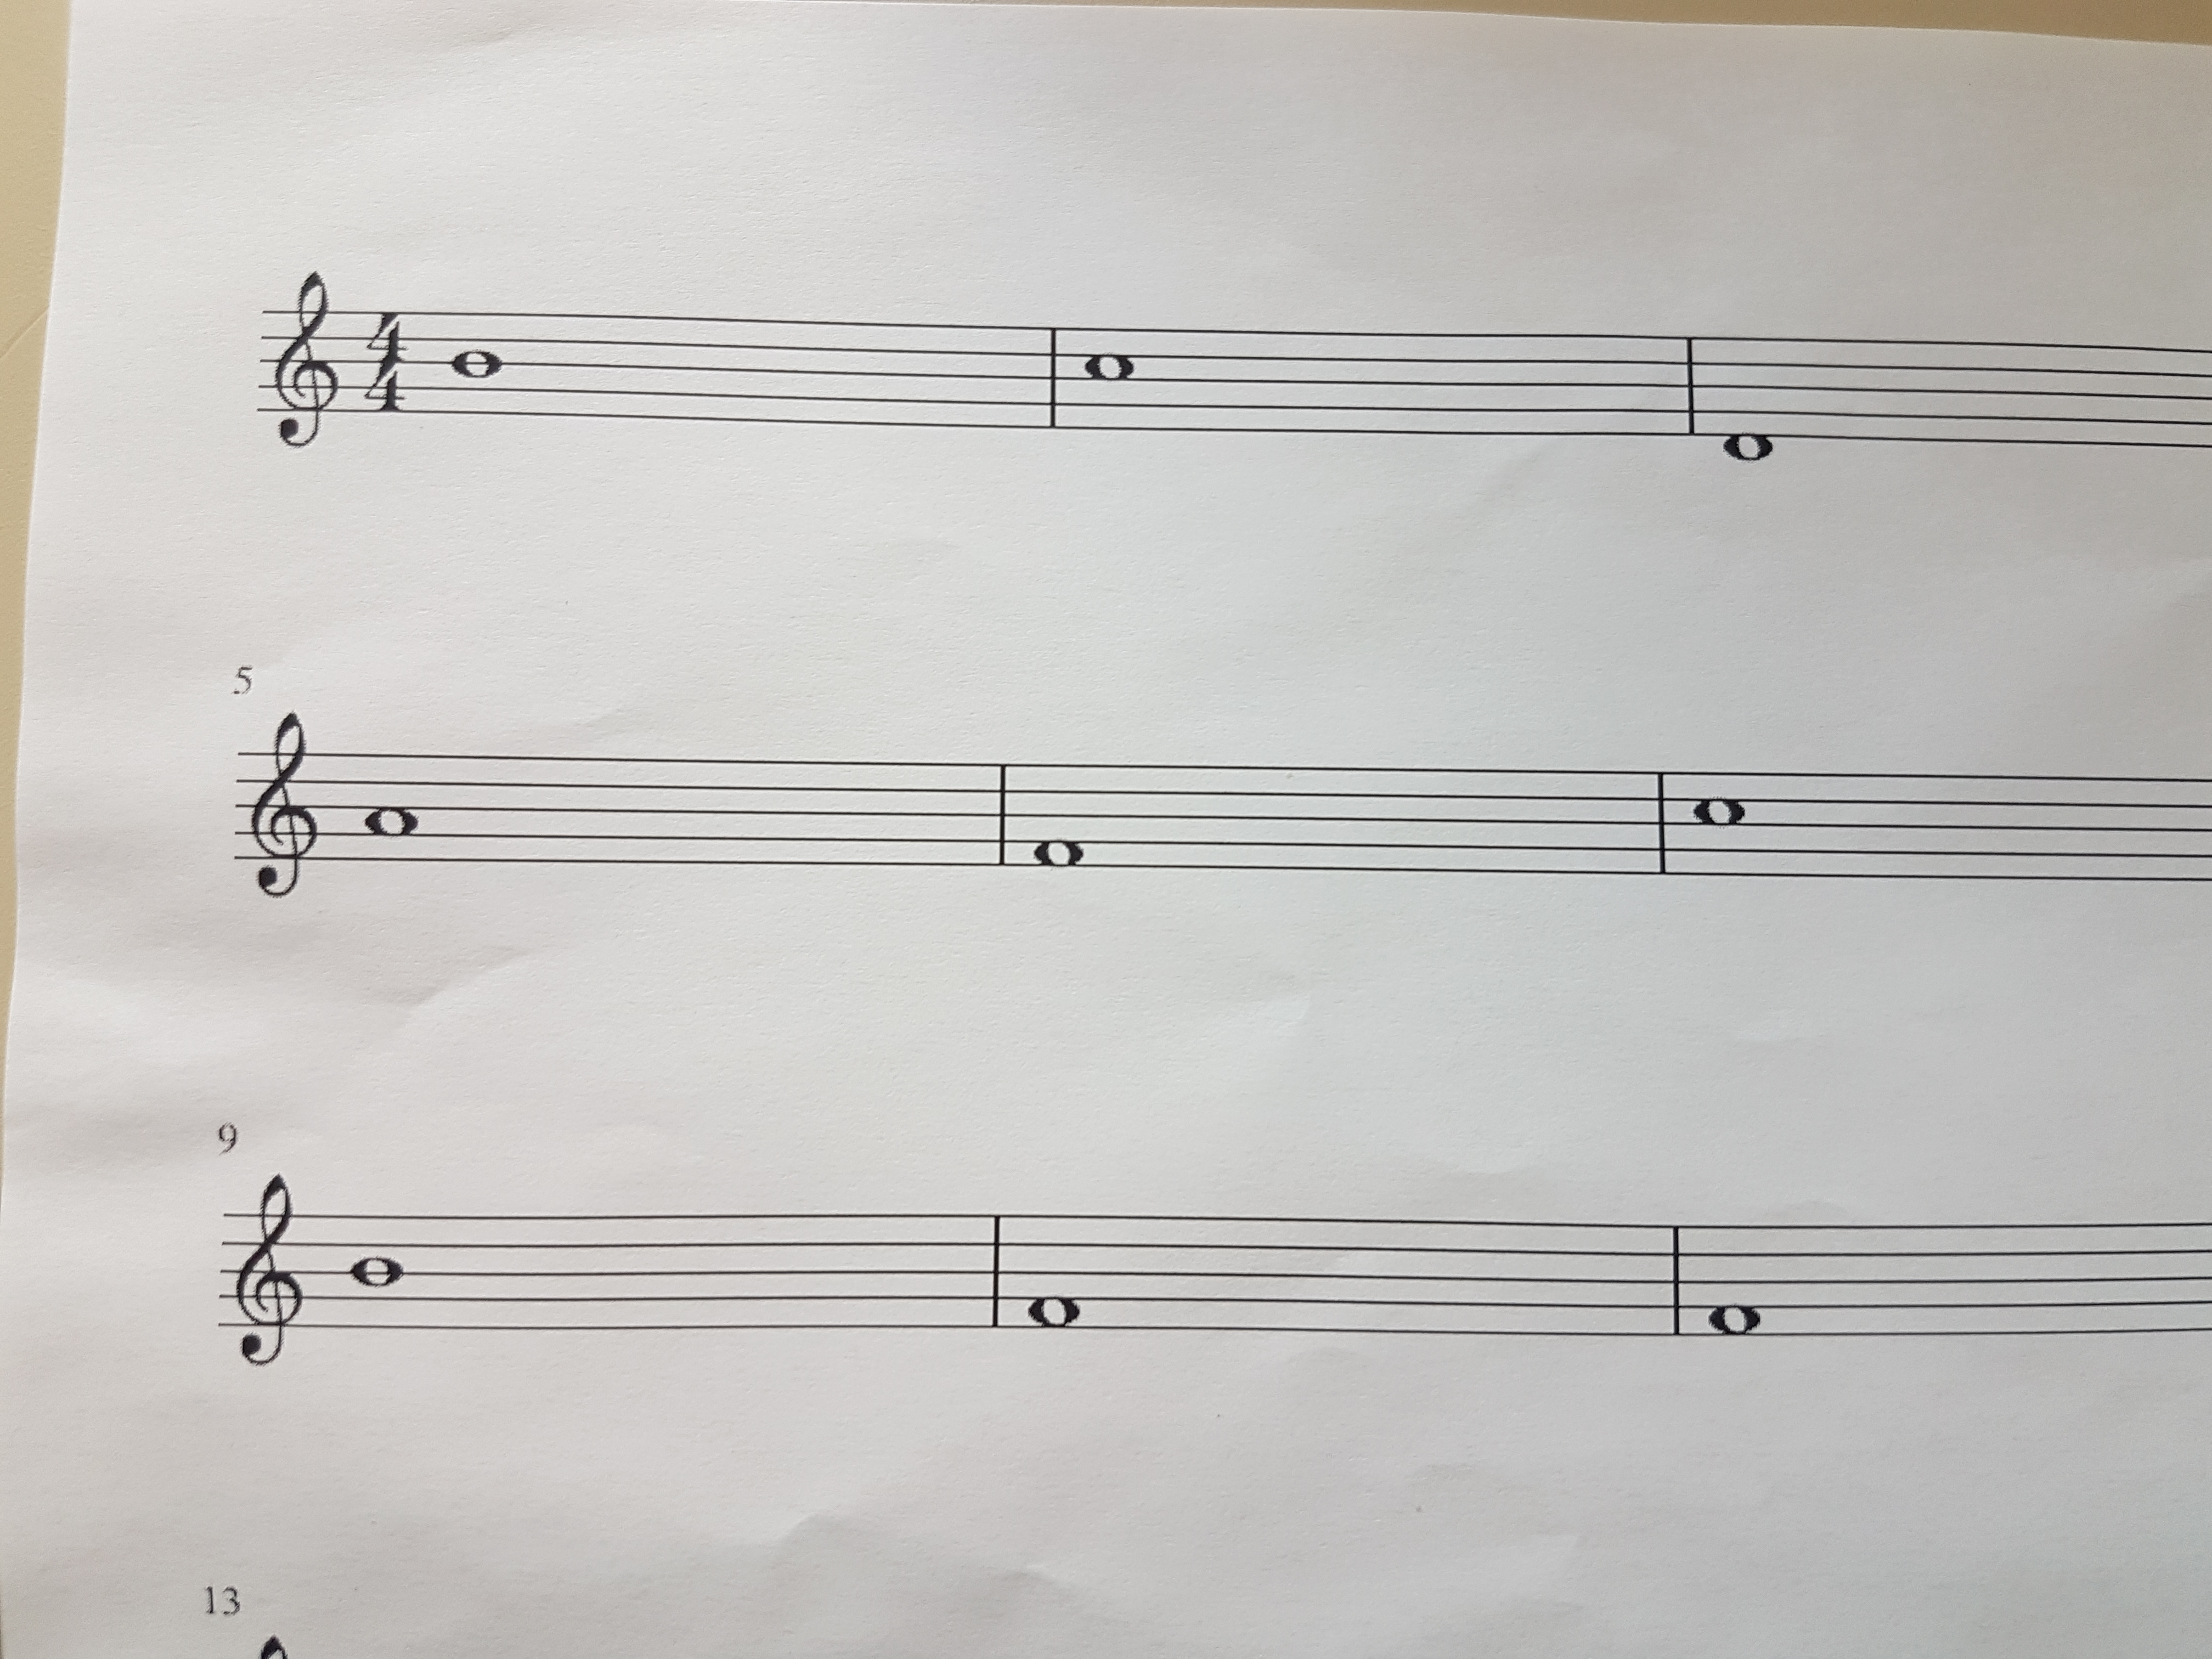semibreve_a: (357, 721, 423, 889)
semibreve_c: (1078, 289, 1139, 455), (1689, 735, 1749, 894)
semibreve_d: (1716, 301, 1778, 481)
semibreve_f: (1702, 1187, 1768, 1363), (1021, 1187, 1083, 1366), (1026, 741, 1089, 901)
semibreve_h: (343, 1180, 413, 1351), (442, 281, 510, 437)
